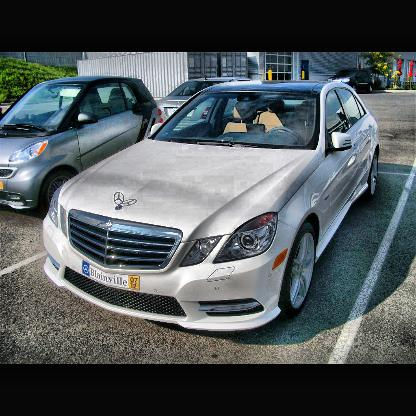Mercedes-Benz E-Class Sedan 2012: (43, 81, 380, 332)
